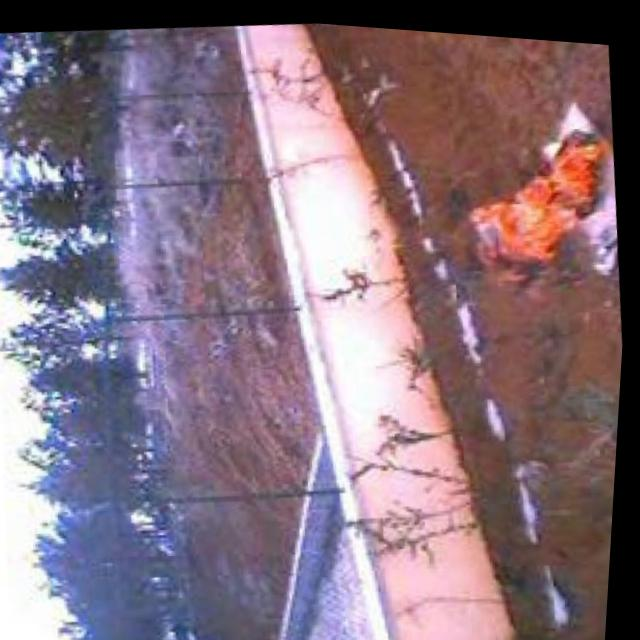Fire: (461, 105, 628, 280)
